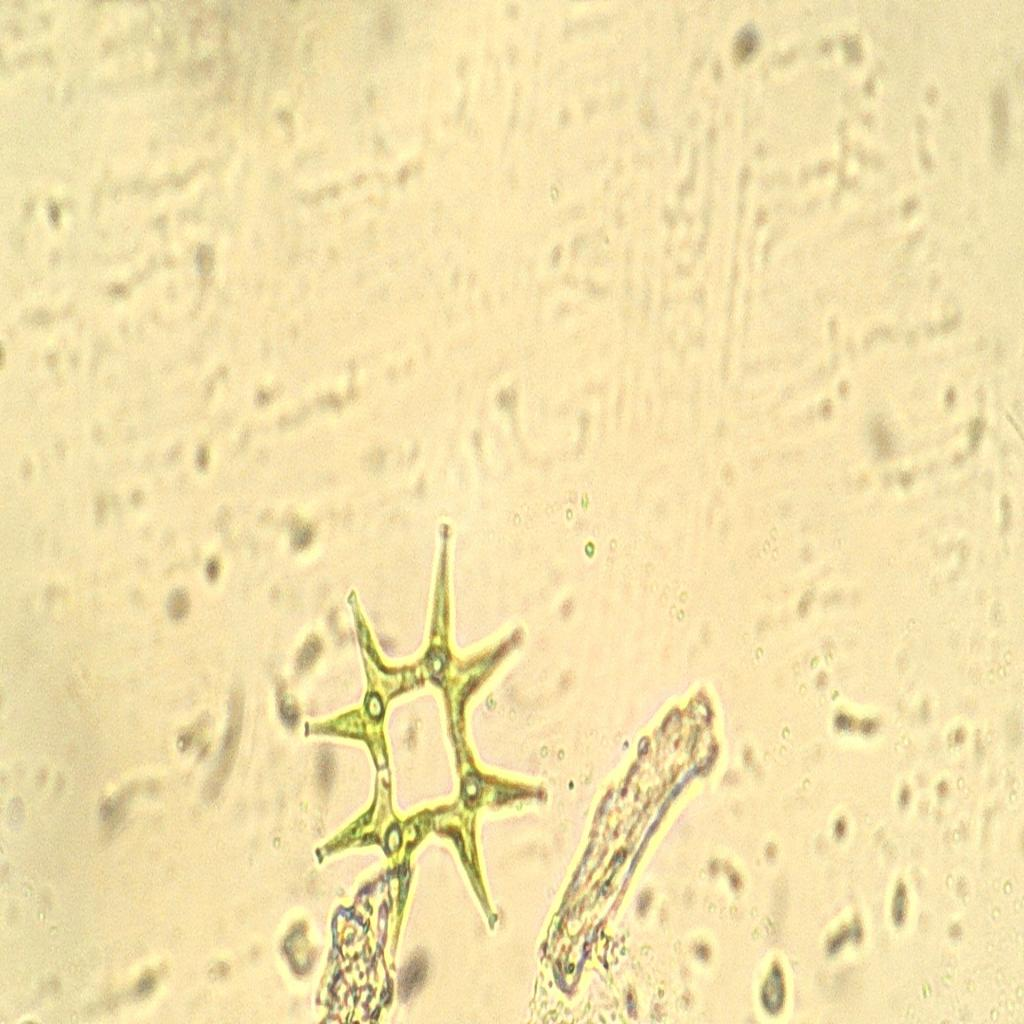Pediastrum_CO: (290, 511, 552, 950)
